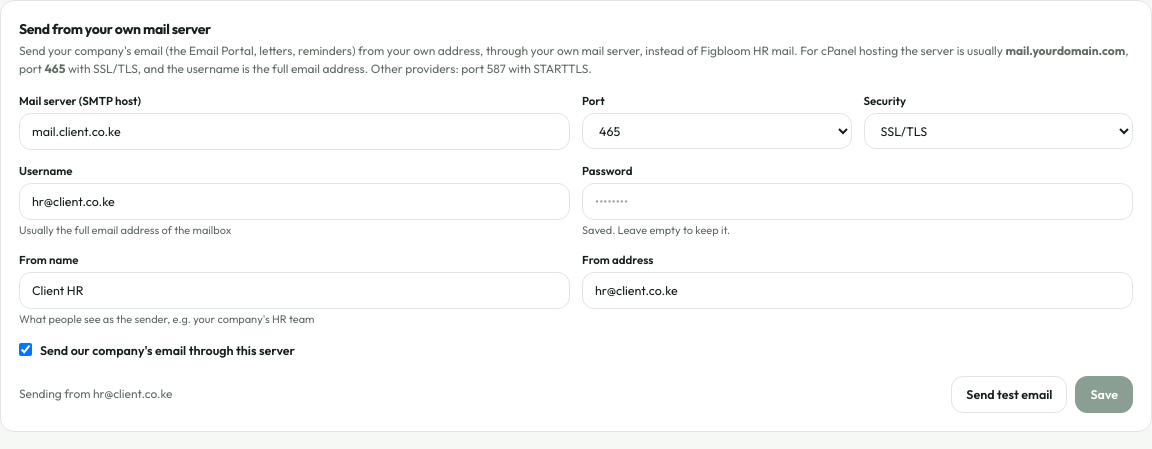
Scenario: Send from your own mail server › asks to save changes before testing them
Expected: the text "Sending from hr@client.co.ke" is shown, [19,385,172,403]
Replace the text in the field labelled "Mail server" with "smtp.other.co.ke": (294, 132) [19,113,570,150]
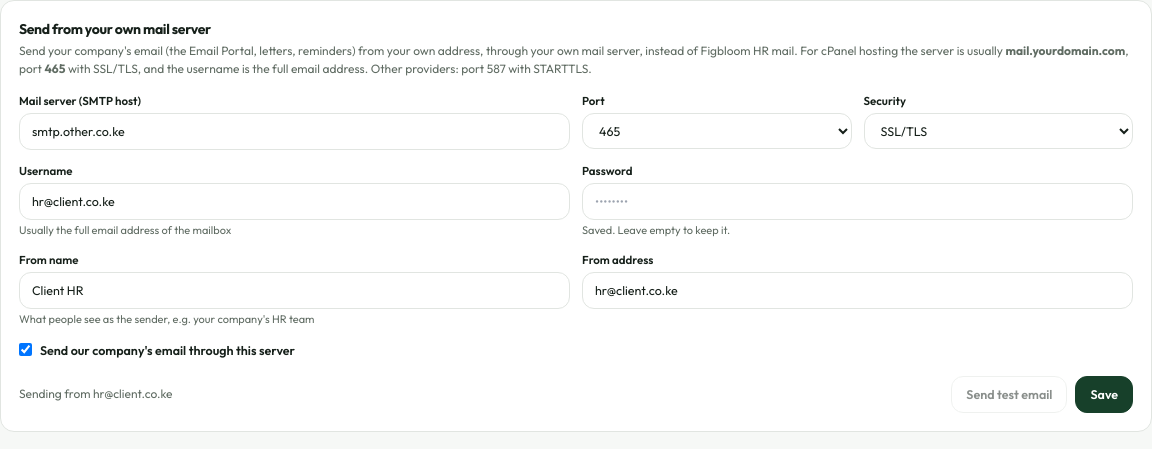
Expected: the button "Send test email" is disabled, [951,376,1068,413]
